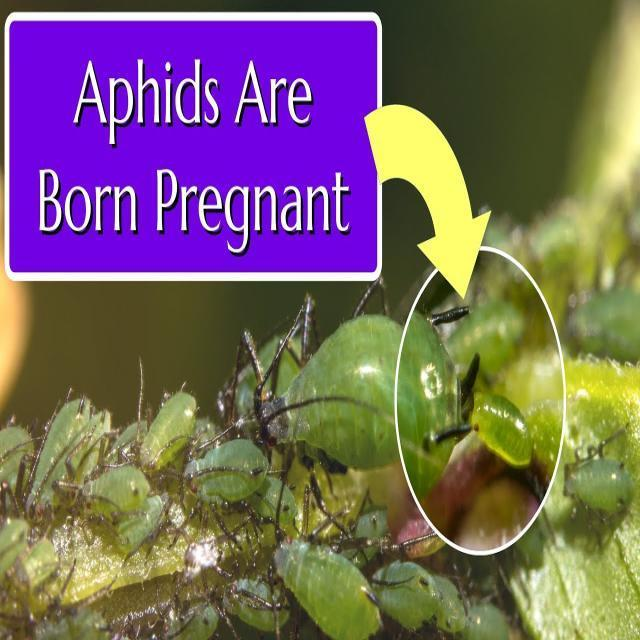Aphids: (231, 300, 539, 518)
